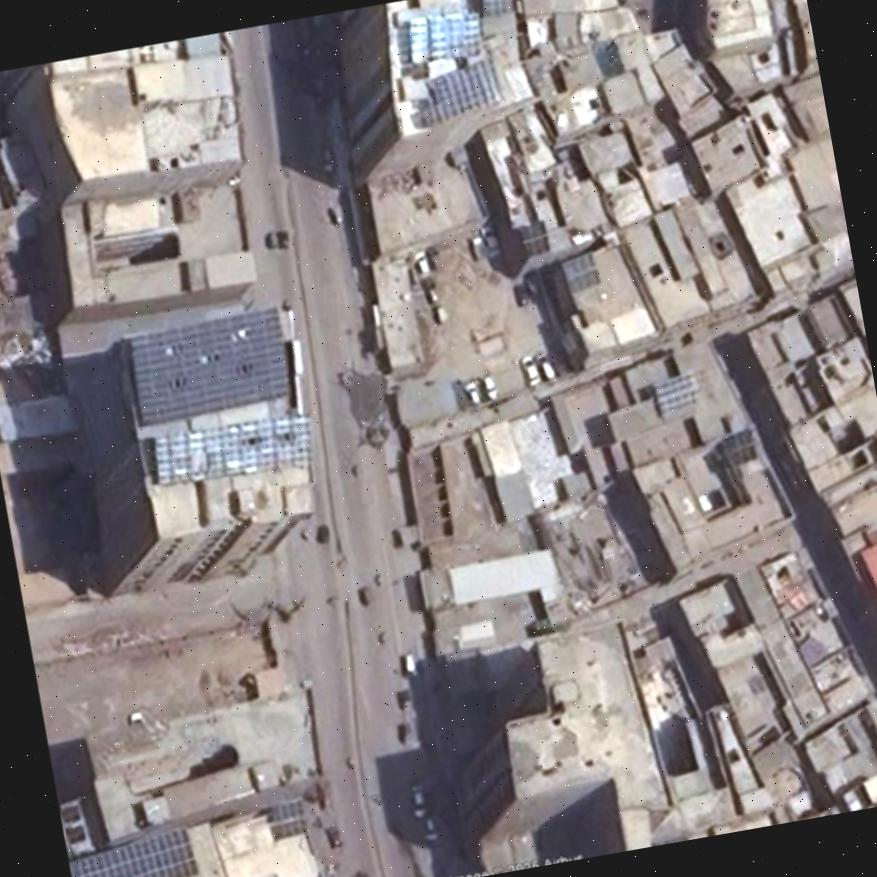Solarpanel: (129, 304, 295, 428), (152, 416, 309, 482), (71, 825, 200, 877), (425, 57, 497, 124), (409, 14, 481, 60), (655, 365, 695, 417), (268, 796, 307, 839), (559, 253, 597, 294), (482, 0, 510, 13)
